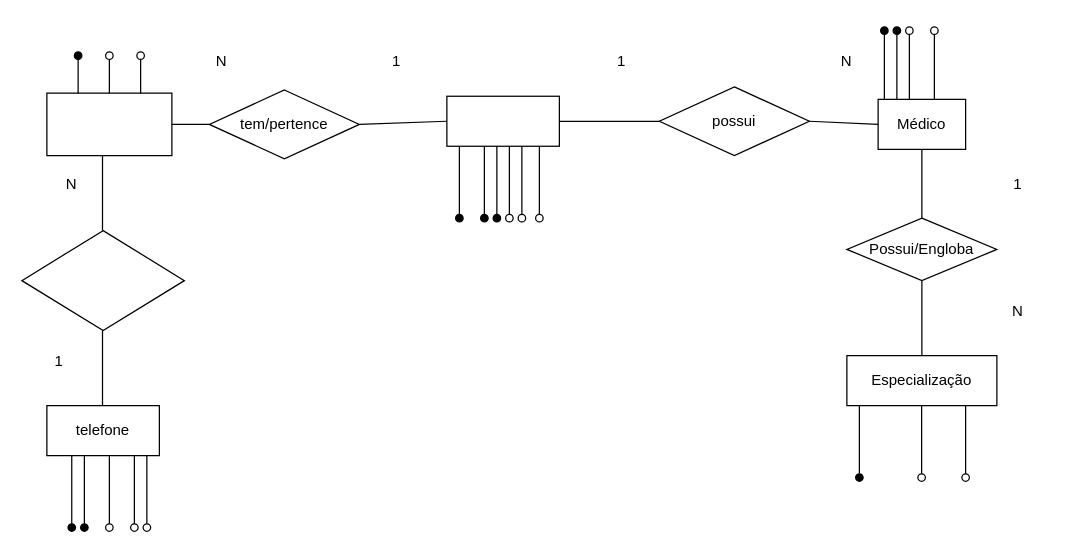
The diagram is 1078 pixels wide and 560 high, and some of its shapes have lost their labels. Each missing label, with the box of its shape:
consulta: (446, 95, 559, 146)
Paciente: (46, 92, 172, 156)
possui/pertence: (21, 229, 184, 331)
